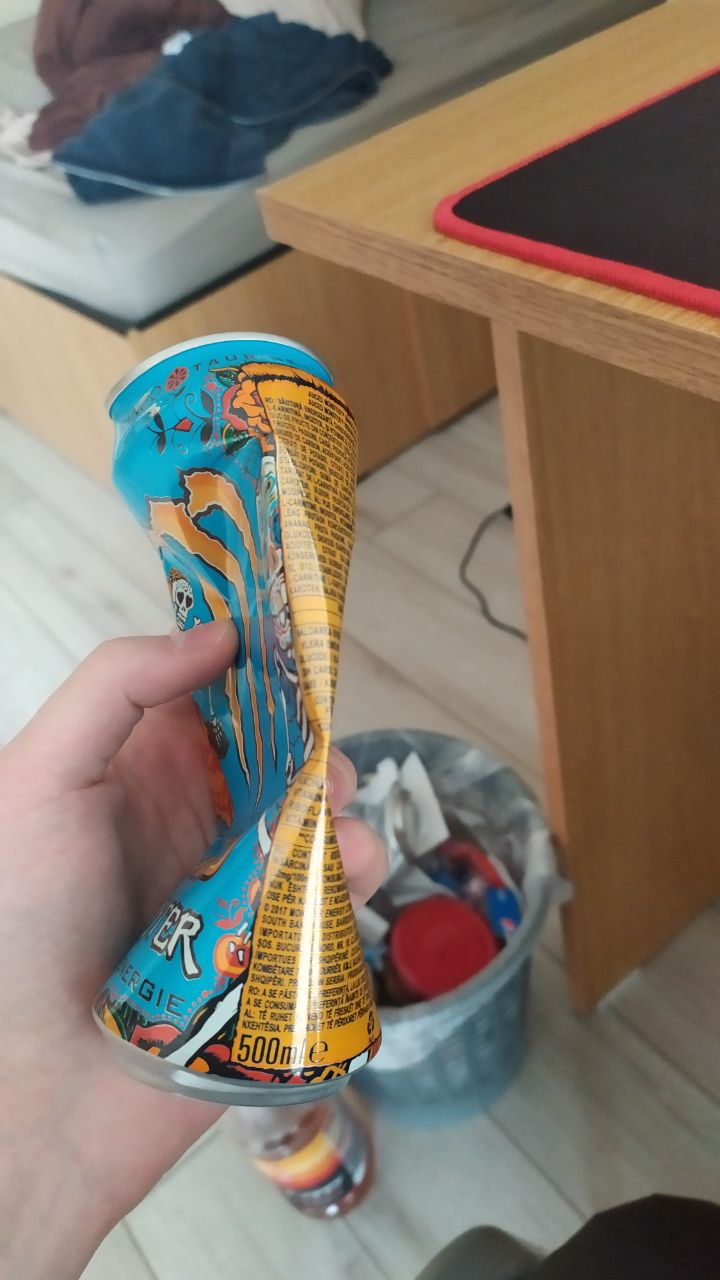Can: (97, 331, 389, 1091)
